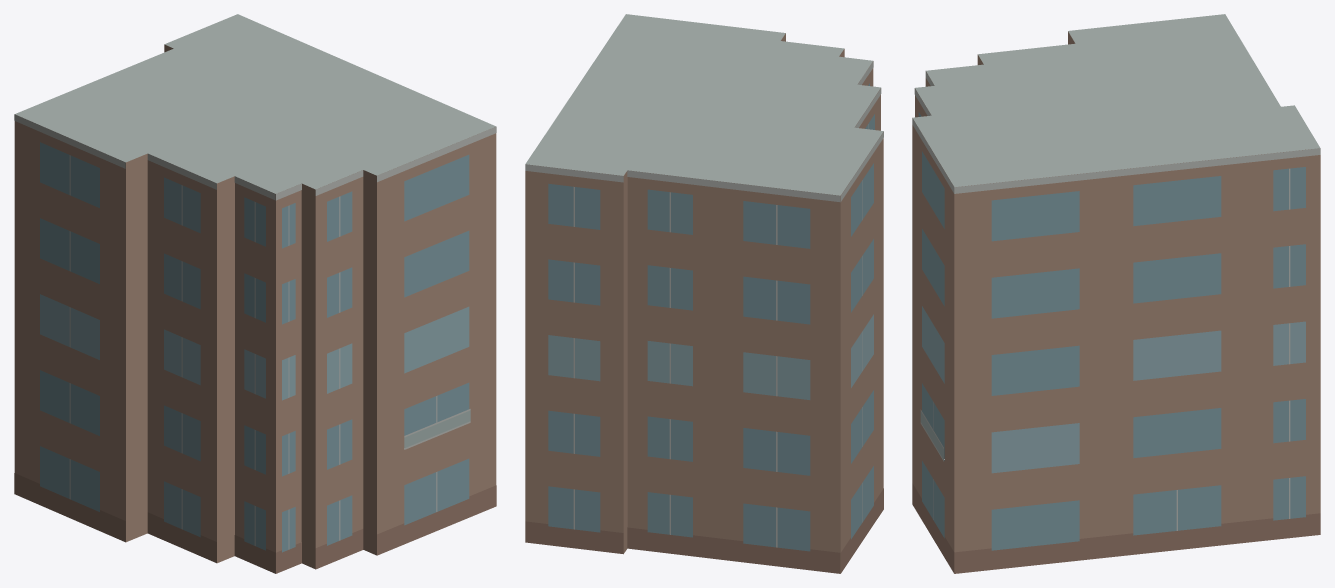
File: survey-upis-32778792.glb
3 renders of one model, left to right at view 1: azimuth 30°, elevation 25°; view 2: azimuth 150°, elevation 25°; view 3: azimuth 270°, elevation 25°, orthographic. The views are drawn at different scales.
Visible parts, largest first — view 1: survey-upis-32778792.tmp; view 2: survey-upis-32778792.tmp; view 3: survey-upis-32778792.tmp.
Boxes of the visible parts, <box> form: survey-upis-32778792.tmp: <box>14,14,496,573</box>; survey-upis-32778792.tmp: <box>525,14,883,573</box>; survey-upis-32778792.tmp: <box>912,14,1320,573</box>.
Size of the model in its own units: 13.46 by 14 by 13.4.
